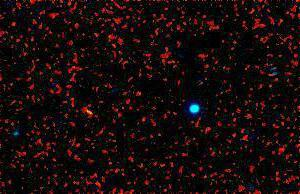star: (75, 96, 105, 126)
